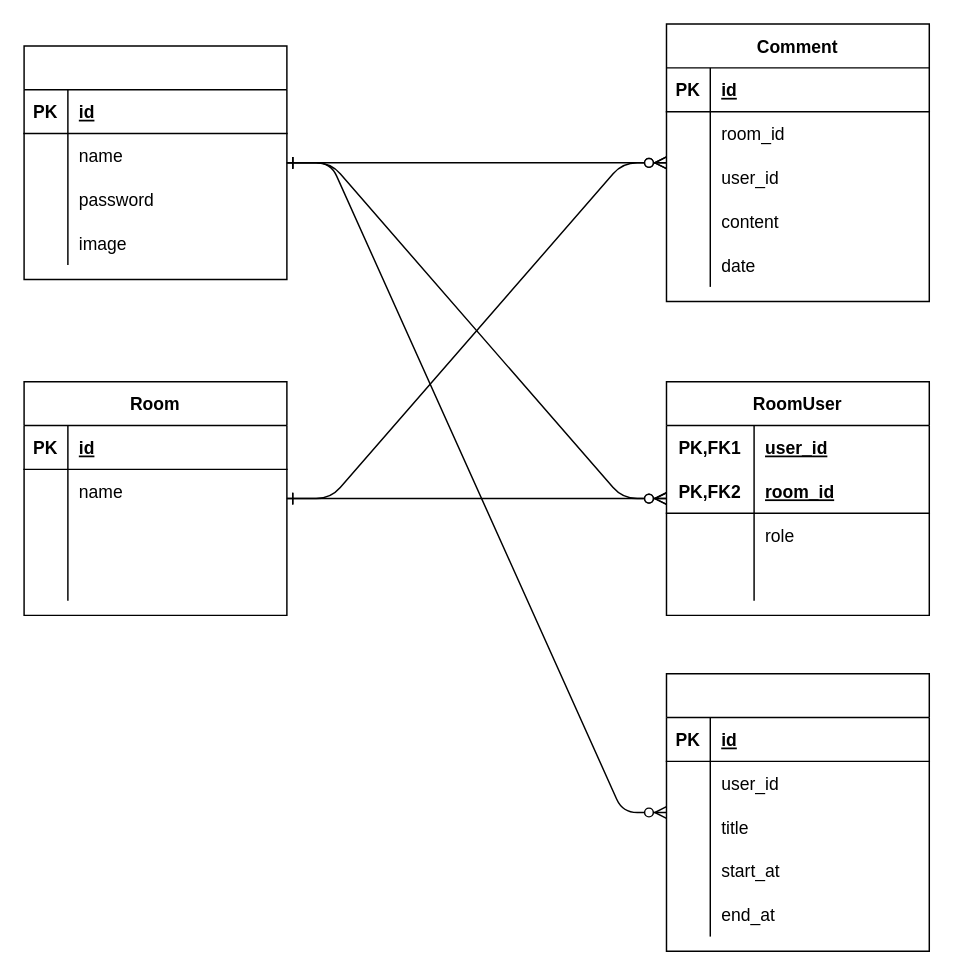
This 953x975 diagram has some shape labels left out. The box of each missing label's shape, as (x1, y1, x2, y2) in pixels:
Event: (665, 672, 929, 951)
User: (23, 45, 287, 280)
